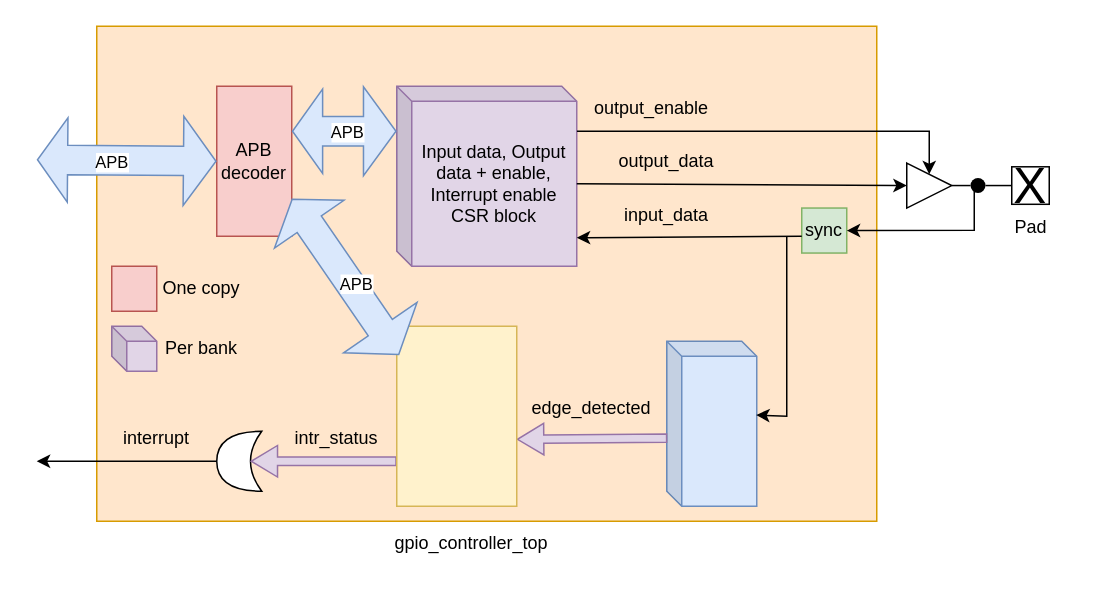
This 1101x593 diagram has some shape labels left out. The shapes that lost their labels are listed below. From the top down, each one's centre as x and y in pixels, then its label:
At (456,415): "Interrupt Status CSR (W1C)".
At (711,423): "edge detector".
